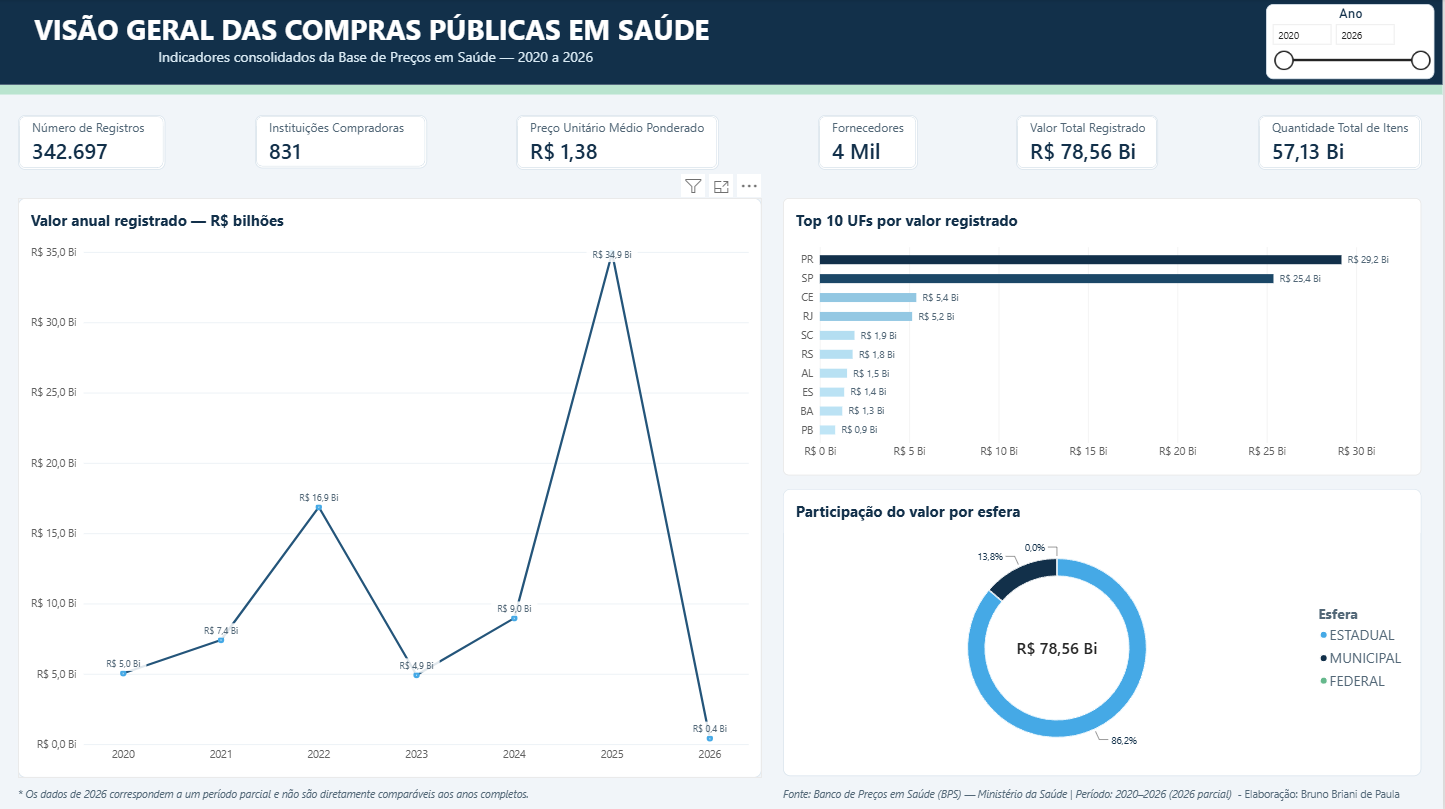

The dashboard page shown, as its layout file describes it:
{"tool":"powerbi","page":{"name":"Visão Geral","canvas":[1920,1080],"ordinal":0},"visuals":[{"type":"shape","box":[0,114.2,1920,12.7],"z":0},{"type":"shape","box":[0,0,1920,114.2],"z":1000},{"type":"cardVisual","fields":{"Data":["Fato_BPS.Número de Registros"]},"box":[25.2,154.6,195.6,72.6],"z":2000},{"type":"cardVisual","fields":{"Data":["Fato_BPS.Instituições Compradoras"]},"box":[340.8,154.6,228.8,71],"z":3000},{"type":"cardVisual","fields":{"Data":["Fato_BPS.Preço Unitário Médio Ponderado"]},"box":[687.5,154.6,269.8,72.6],"z":4000},{"type":"cardVisual","fields":{"Data":["Fato_BPS.Quantidade Total de Itens"]},"box":[1673.9,154.6,217.7,72.6],"z":5000},{"type":"cardVisual","fields":{"Data":["Fato_BPS.Fornecedores"]},"box":[1088.9,154.6,132.5,72.6],"z":6000},{"type":"cardVisual","fields":{"Data":["Fato_BPS.Valor Total Registrado"]},"box":[1353,154.6,189.3,72.6],"z":7000},{"type":"slicer","title":"Ano","fields":{"Values":["Dim_Calendario.Ano"]},"box":[1685.4,6.3,223.6,99.9],"z":8000},{"type":"lineChart","title":"Valor anual registrado — R$ bilhões","fields":{"Category":["Dim_Calendario.Ano"],"Y":["Fato_BPS.Valor Total Registrado"]},"box":[25.2,265,989.2,771.5],"z":9000},{"type":"barChart","title":"Top 10 UFs por valor registrado","fields":{"Category":["Fato_BPS.uf"],"Y":["Fato_BPS.Valor Total Registrado"]},"box":[1042.8,265,848.8,369.2],"z":10000},{"type":"donutChart","title":"Participação do valor por esfera","fields":{"Category":["Fato_BPS.esfera"],"Y":["Fato_BPS.Valor Total Registrado"]},"box":[1042.8,651.6,848.8,381.8],"z":11000},{"type":"textbox","box":[25.4,14.3,951.3,85.6],"z":12000},{"type":"textbox","box":[24.8,1047.5,690.1,32.1],"z":13000},{"type":"textbox","box":[1043.2,1047.5,849.1,32.1],"z":14000}]}

Visuals, with their boxes in screenshot pixels (x1, y1, x2, y2), scaled from the page's 1920x1080 canvas onto the 1445x809 screenshot:
shape: (x1=0, y1=86, x2=1444, y2=95)
shape: (x1=0, y1=0, x2=1444, y2=86)
cardVisual - Fato_BPS.Número de Registros: (x1=19, y1=116, x2=166, y2=170)
cardVisual - Fato_BPS.Instituições Compradoras: (x1=256, y1=116, x2=429, y2=169)
cardVisual - Fato_BPS.Preço Unitário Médio Ponderado: (x1=517, y1=116, x2=720, y2=170)
cardVisual - Fato_BPS.Quantidade Total de Itens: (x1=1260, y1=116, x2=1424, y2=170)
cardVisual - Fato_BPS.Fornecedores: (x1=820, y1=116, x2=919, y2=170)
cardVisual - Fato_BPS.Valor Total Registrado: (x1=1018, y1=116, x2=1161, y2=170)
"Ano" slicer: (x1=1268, y1=5, x2=1437, y2=80)
"Valor anual registrado — R$ bilhões" lineChart: (x1=19, y1=199, x2=763, y2=776)
"Top 10 UFs por valor registrado" barChart: (x1=785, y1=199, x2=1424, y2=475)
"Participação do valor por esfera" donutChart: (x1=785, y1=488, x2=1424, y2=774)
textbox: (x1=19, y1=11, x2=735, y2=75)
textbox: (x1=19, y1=785, x2=538, y2=808)
textbox: (x1=785, y1=785, x2=1424, y2=808)
